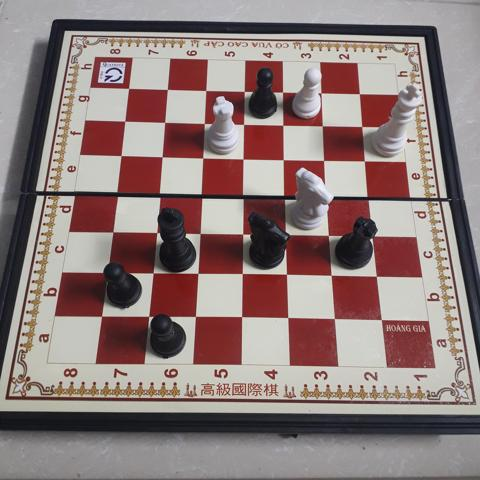xcorner: (141, 307, 157, 324), (234, 265, 251, 281), (279, 266, 296, 282), (324, 267, 341, 283), (369, 267, 386, 283), (104, 222, 121, 238), (365, 226, 382, 242), (236, 149, 252, 166), (95, 307, 111, 323), (188, 308, 204, 324), (234, 309, 250, 325), (281, 310, 297, 326), (327, 311, 343, 327), (374, 311, 390, 327), (100, 263, 116, 279), (145, 264, 161, 280), (190, 264, 206, 280), (148, 223, 164, 239), (191, 223, 207, 239), (235, 224, 251, 240), (278, 225, 294, 241), (322, 225, 338, 241), (109, 184, 125, 200), (151, 184, 167, 200), (193, 185, 209, 201), (235, 186, 251, 202), (277, 186, 293, 202), (320, 187, 336, 203), (362, 188, 378, 204), (113, 148, 129, 164), (154, 148, 170, 164), (195, 149, 211, 165), (276, 150, 292, 166), (317, 151, 333, 167), (358, 151, 374, 167), (117, 114, 133, 130), (157, 114, 173, 130), (196, 115, 212, 131), (236, 116, 252, 132), (276, 116, 292, 132), (315, 117, 331, 133), (355, 117, 371, 133), (121, 82, 137, 98), (159, 82, 175, 98), (198, 83, 214, 99), (236, 84, 252, 100), (275, 84, 291, 100), (313, 85, 329, 101), (352, 85, 368, 101)
